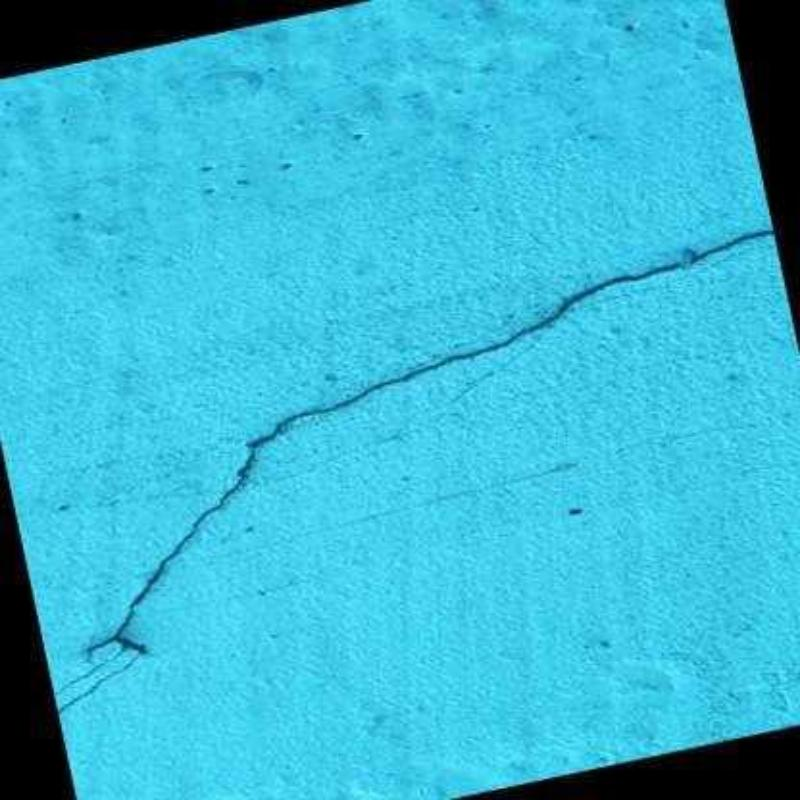pothole: (54, 231, 775, 715)
